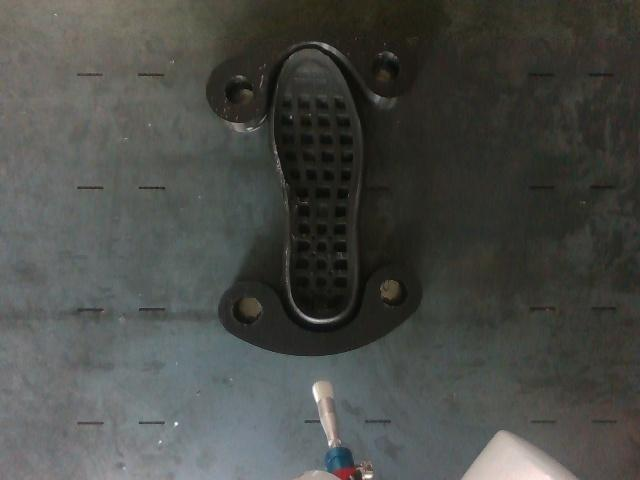shoes: (273, 49, 360, 320)
